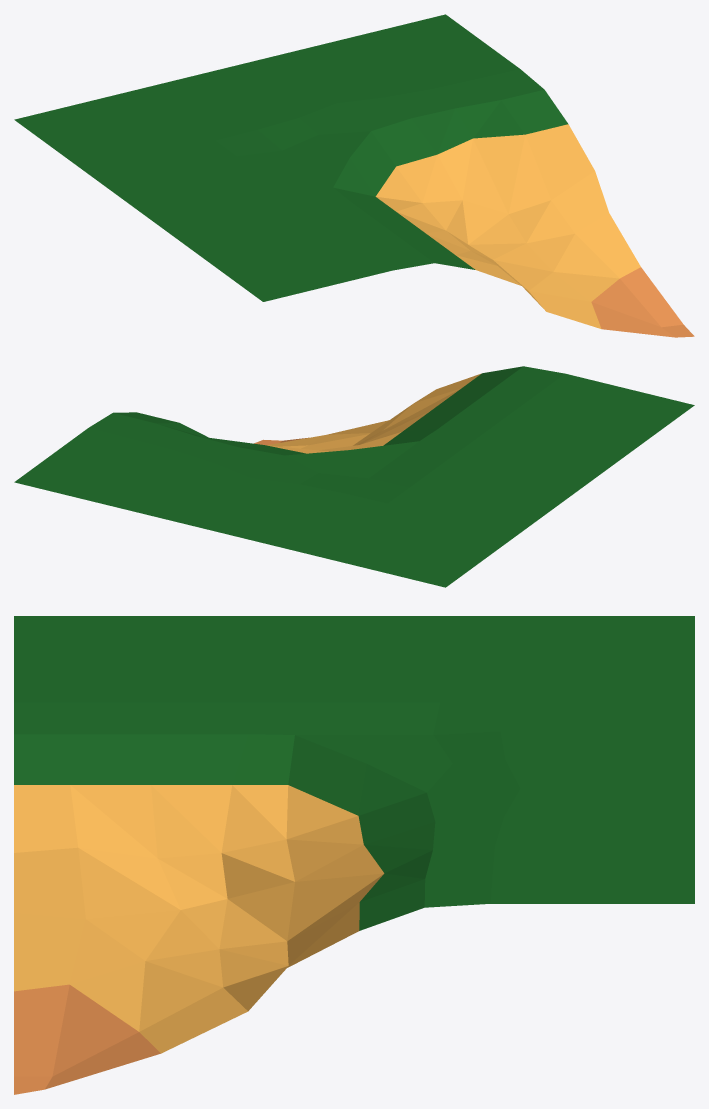
Rendered from Playa_Angulo.fbx.
3 views of the same model, one above another, from view 1: azimuth 30°, elevation 25°; view 2: azimuth 150°, elevation 25°; view 3: azimuth 270°, elevation 25° (orthographic). The views are drawn at different scales.
Parts seen in each view (by area): view 1: Playa_Angulo; view 2: Playa_Angulo; view 3: Playa_Angulo.
Boxes of the visible parts, bbox=[...] form: Playa_Angulo: bbox=[14, 14, 694, 337]; Playa_Angulo: bbox=[14, 366, 694, 587]; Playa_Angulo: bbox=[14, 616, 694, 1094].
Bounding box in the file's own units: 2000 × 619 × 2000.
